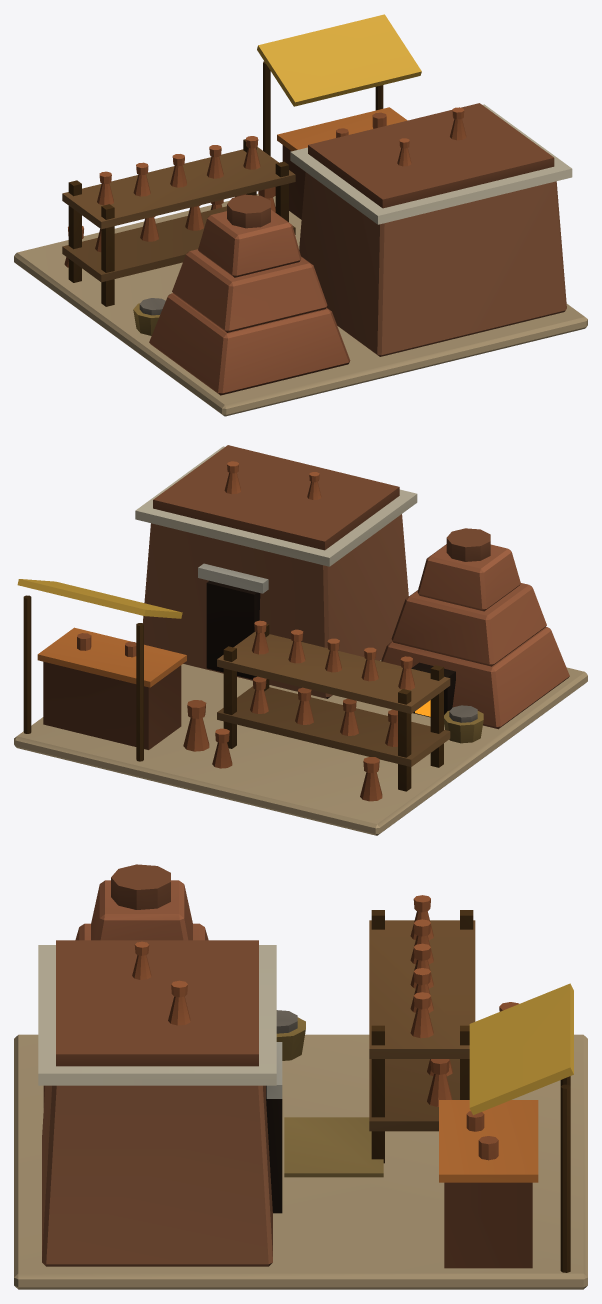
Rendered from vessel_shop.glb.
The picture shows the model from 3 angles, top to bottom: view 1: azimuth 30°, elevation 25°; view 2: azimuth 150°, elevation 25°; view 3: azimuth 270°, elevation 25°; orthographic projection. The views are drawn at different scales.
Parts seen in each view (by area): view 1: vessel_shop_mud_terra, vessel_shop_brick_red, vessel_shop_earth_pack, vessel_shop_mud_dark, vessel_shop_wood_mid, vessel_shop_cloth_yellow, vessel_shop_stone_pale, vessel_shop_pottery, vessel_shop_wood_dark, vessel_shop_cloth_orange; view 2: vessel_shop_earth_pack, vessel_shop_mud_dark, vessel_shop_mud_terra, vessel_shop_brick_red, vessel_shop_wood_mid, vessel_shop_pottery, vessel_shop_wood_dark, vessel_shop_stone_pale, vessel_shop_cloth_orange, vessel_shop_door_dark, vessel_shop_cloth_yellow, vessel_shop_stone_white (+1 smaller); view 3: vessel_shop_earth_pack, vessel_shop_mud_terra, vessel_shop_mud_dark, vessel_shop_wood_mid, vessel_shop_cloth_yellow, vessel_shop_stone_pale, vessel_shop_cloth_orange, vessel_shop_pottery, vessel_shop_thatch_mat, vessel_shop_wood_dark, vessel_shop_brick_red, vessel_shop_door_dark (+1 smaller).
Part boxes in pixels (<box>): vessel_shop_mud_terra: <box>299,172,566,356</box>; vessel_shop_brick_red: <box>149,209,350,395</box>; vessel_shop_earth_pack: <box>14,194,587,416</box>; vessel_shop_mud_dark: <box>227,103,554,228</box>; vessel_shop_wood_mid: <box>62,147,295,282</box>; vessel_shop_cloth_yellow: <box>257,14,421,106</box>; vessel_shop_stone_pale: <box>290,104,572,224</box>; vessel_shop_pottery: <box>64,107,466,267</box>; vessel_shop_wood_dark: <box>68,61,383,306</box>; vessel_shop_cloth_orange: <box>277,107,407,151</box>; vessel_shop_earth_pack: <box>14,659,587,835</box>; vessel_shop_mud_dark: <box>43,445,490,749</box>; vessel_shop_mud_terra: <box>142,514,408,698</box>; vessel_shop_brick_red: <box>381,544,569,729</box>; vessel_shop_wood_mid: <box>217,631,450,766</box>; vessel_shop_pottery: <box>77,461,414,801</box>; vessel_shop_wood_dark: <box>23,595,443,791</box>; vessel_shop_stone_pale: <box>135,446,417,566</box>; vessel_shop_cloth_orange: <box>37,627,186,687</box>; vessel_shop_door_dark: <box>206,580,455,717</box>; vessel_shop_cloth_yellow: <box>17,579,182,618</box>; vessel_shop_stone_white: <box>198,563,268,593</box>; vessel_shop_earth_pack: <box>14,1034,587,1289</box>; vessel_shop_mud_terra: <box>42,1085,272,1266</box>; vessel_shop_mud_dark: <box>56,864,532,1268</box>; vessel_shop_wood_mid: <box>369,920,475,1131</box>; vessel_shop_cloth_yellow: <box>469,983,573,1115</box>; vessel_shop_stone_pale: <box>38,945,276,1085</box>; vessel_shop_cloth_orange: <box>439,1100,538,1182</box>; vessel_shop_pottery: <box>132,895,518,1160</box>; vessel_shop_thatch_mat: <box>284,1117,383,1177</box>; vessel_shop_wood_dark: <box>371,910,570,1272</box>; vessel_shop_brick_red: <box>43,880,208,1107</box>; vessel_shop_door_dark: <box>266,1085,282,1213</box>.
Bounding box in the file's own units: 2.6 × 1.3 × 2.6.
